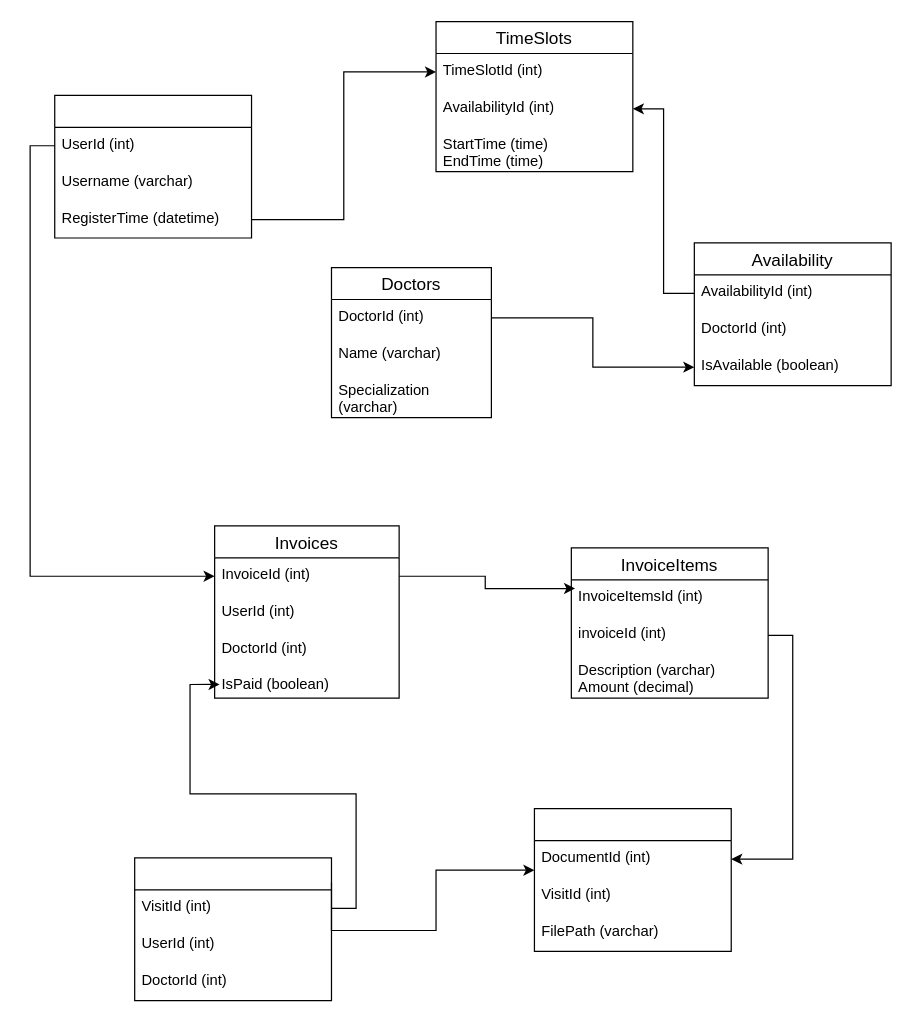
This 913x1026 diagram has some shape labels left out. Each missing label, with the box of its shape:
Documents: (533, 807, 731, 951)
Users: (54, 94, 252, 238)
Visits: (133, 857, 331, 1001)
